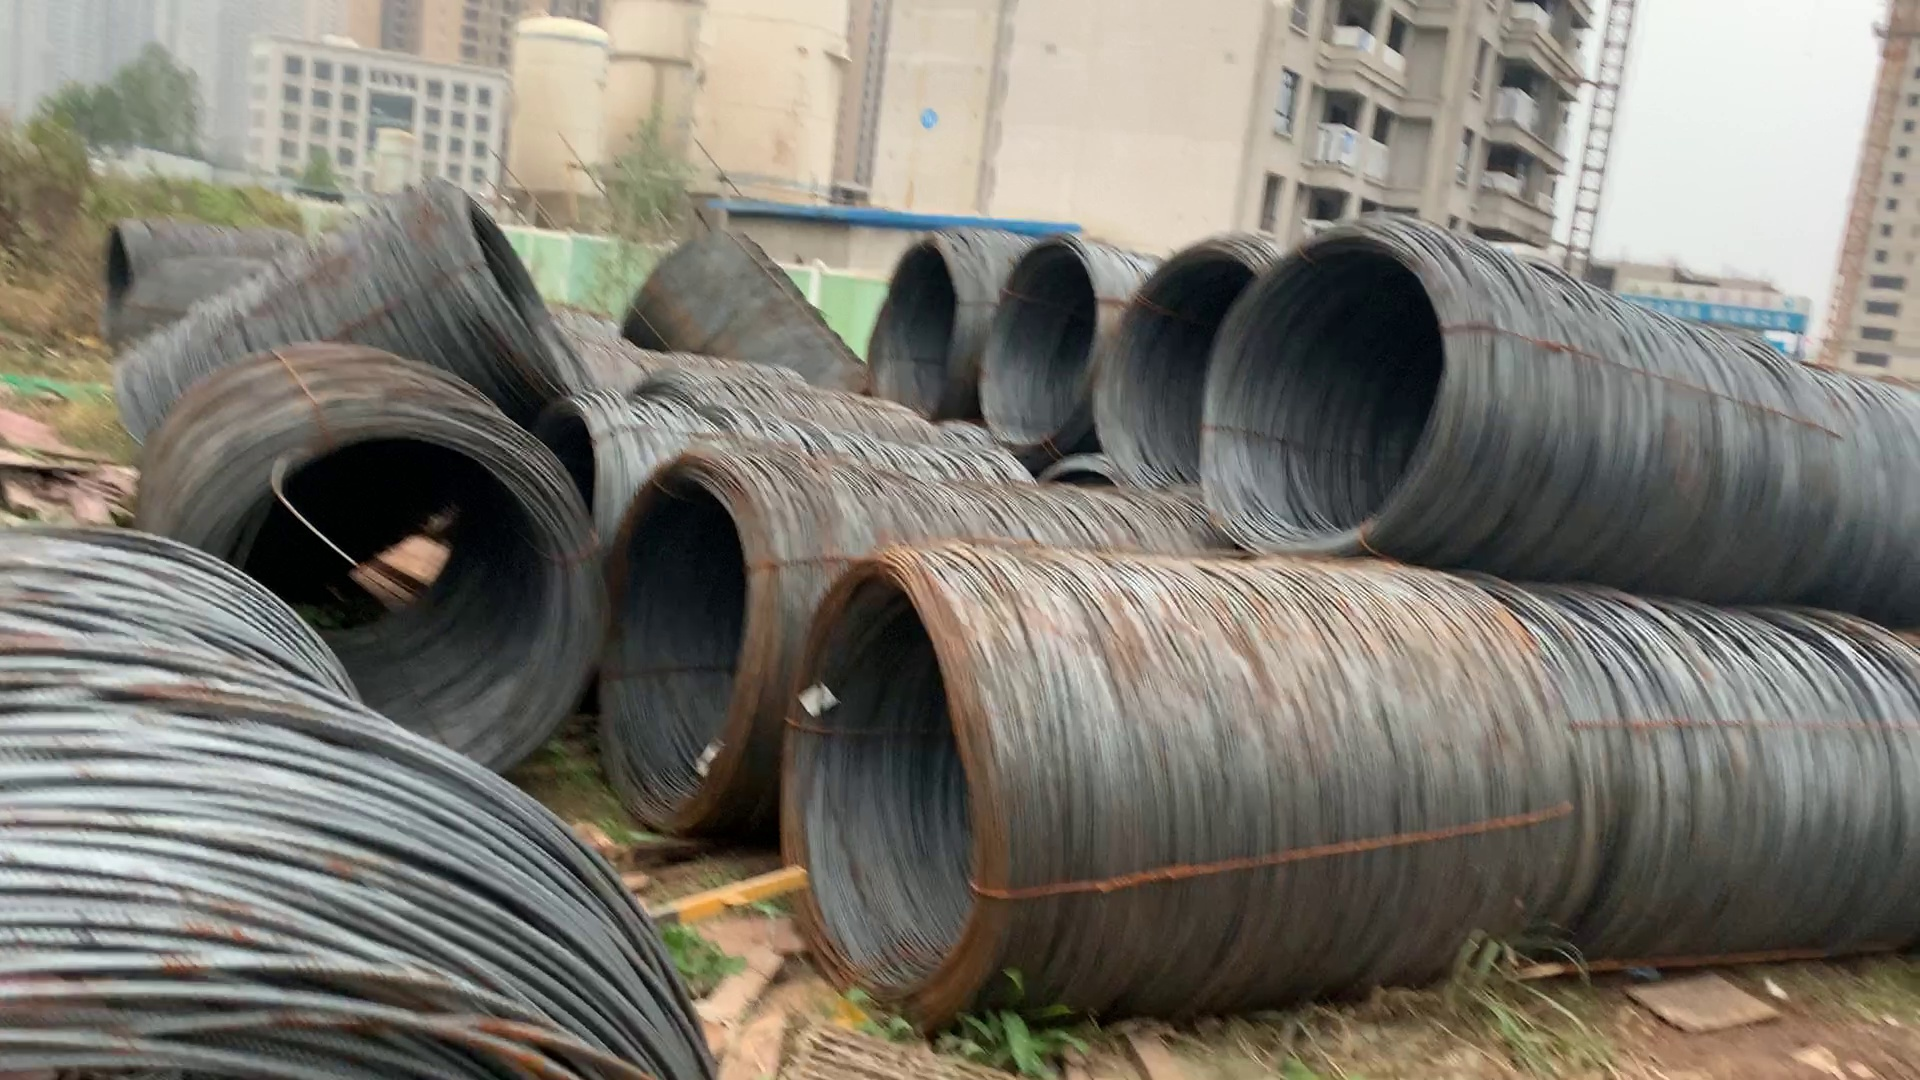coil: (182, 421, 589, 771), (790, 563, 1002, 1029), (1218, 241, 1452, 563), (604, 460, 782, 847), (1104, 243, 1263, 506), (443, 189, 603, 421), (977, 243, 1104, 454), (865, 241, 965, 425), (90, 216, 138, 332)
